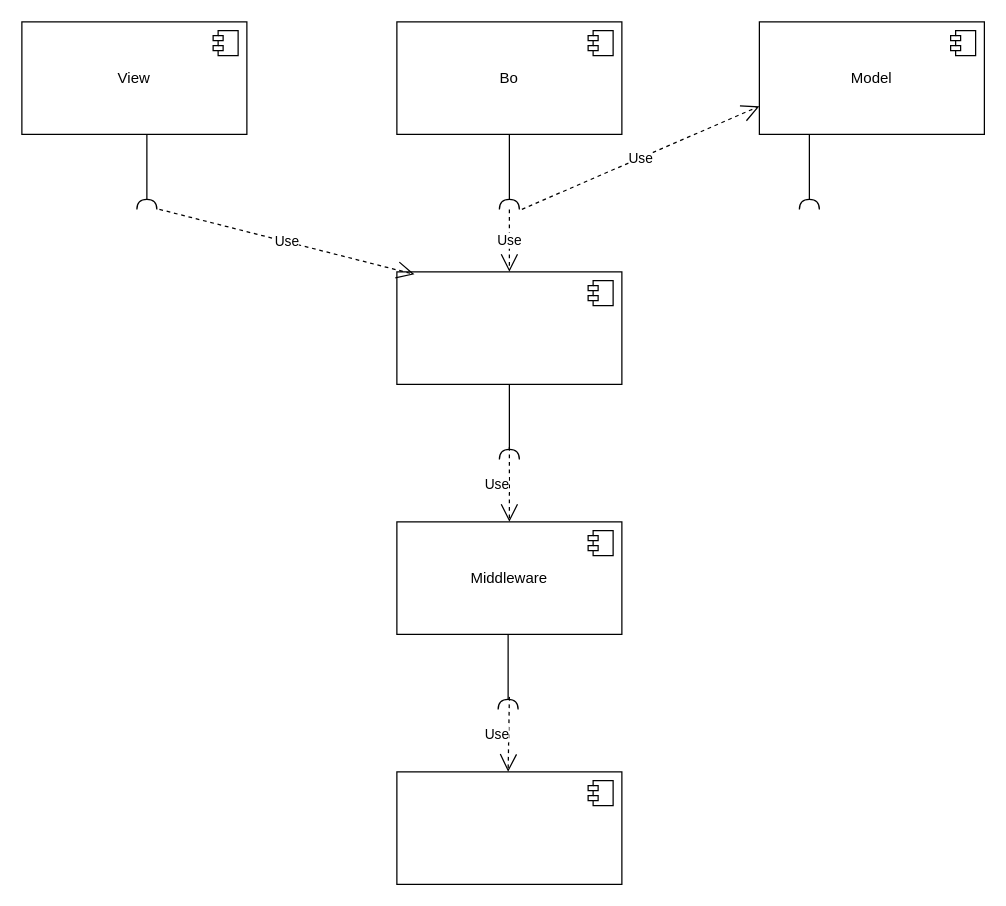
Some shapes in this 1006 by 906 pixel diagram are drawn without their labels. Here are the shapes that lost their labels. From the top down, the centre of each, then its label:
At point (509, 327): "Controller".
At point (509, 827): "Router".
